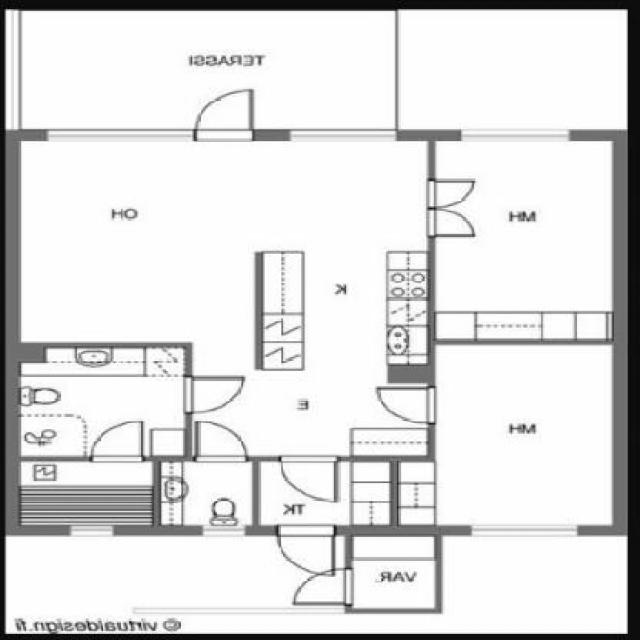door: (422, 177, 480, 246), (191, 89, 251, 148), (279, 523, 343, 575), (283, 454, 345, 506), (284, 566, 362, 603), (196, 414, 250, 463), (369, 386, 440, 422), (180, 376, 242, 416), (89, 418, 143, 458)
window: (470, 525, 572, 540), (292, 126, 391, 139), (57, 129, 191, 137), (454, 128, 561, 137), (75, 526, 111, 539), (197, 526, 237, 536)
zone: (22, 138, 426, 457), (3, 532, 635, 637), (11, 8, 397, 126), (440, 140, 608, 338), (398, 9, 628, 129), (14, 340, 189, 460), (21, 462, 152, 522), (257, 462, 385, 523), (343, 534, 435, 604), (160, 458, 251, 518)
